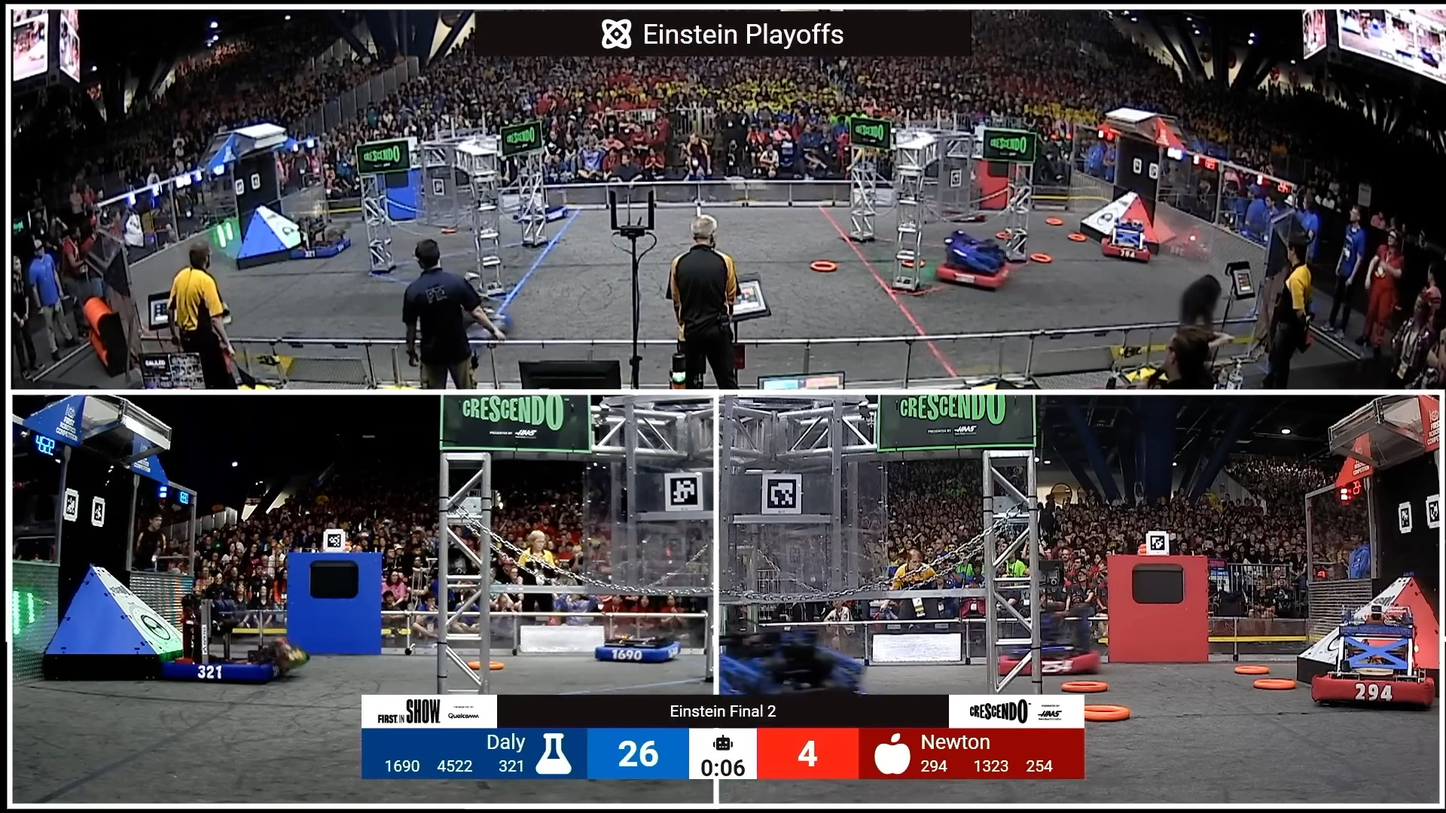bumpers: (1310, 667, 1437, 706), (928, 249, 1035, 295), (163, 655, 291, 686), (1087, 228, 1177, 267), (585, 639, 689, 669), (994, 651, 1107, 675), (287, 240, 349, 260), (513, 208, 571, 226)
